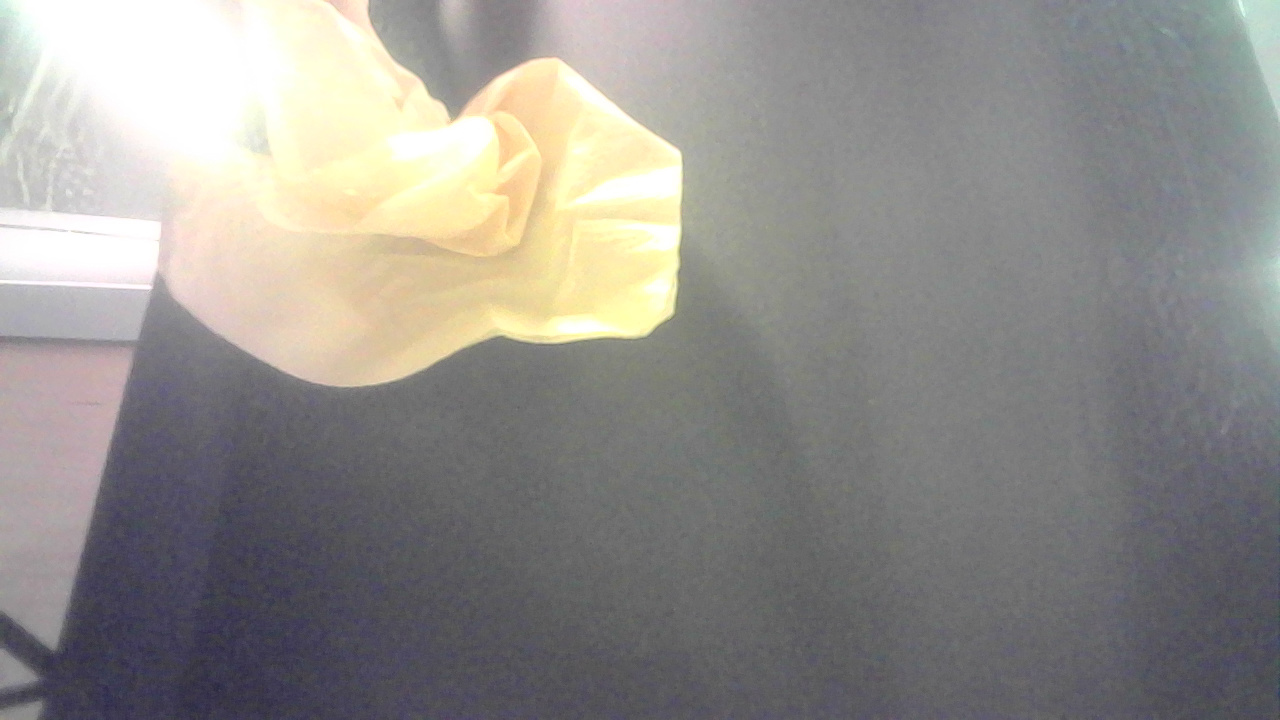Paper_Recycling: (154, 27, 689, 403)
